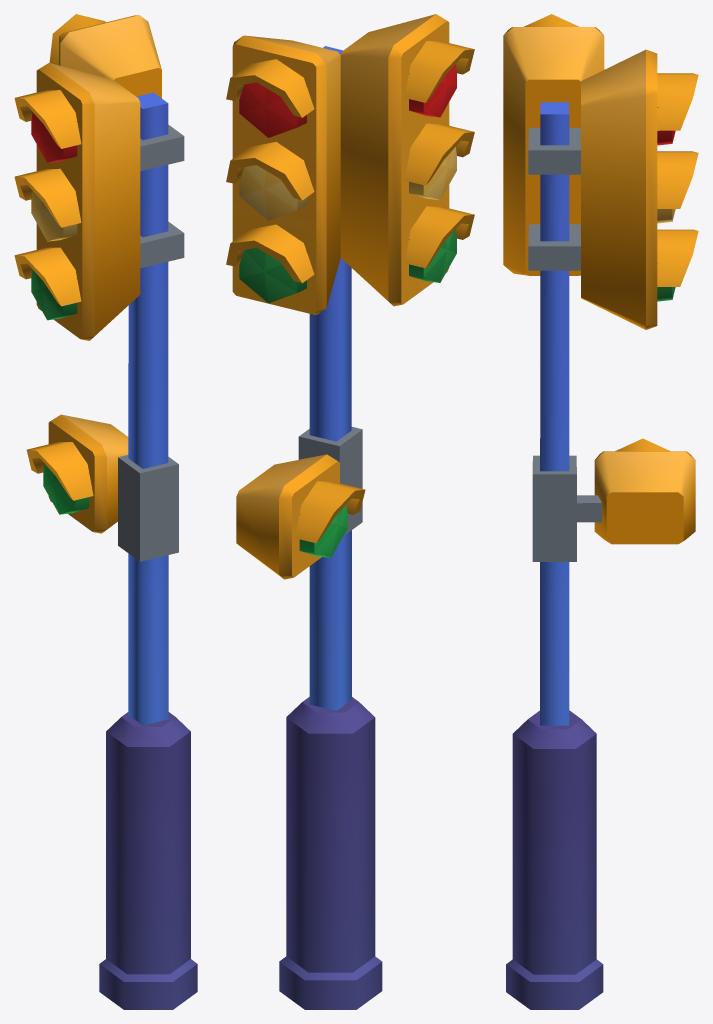
The model's file is Lights_3_B.fbx.
3 views of the same model, side by side, from view 1: azimuth 30°, elevation 25°; view 2: azimuth 150°, elevation 25°; view 3: azimuth 270°, elevation 25° (orthographic). The views are drawn at different scales.
Parts seen in each view (by area): view 1: Lights_3_B; view 2: Lights_3_B; view 3: Lights_3_B.
Part boxes in pixels (x1,y1,x2,y2): Lights_3_B: (14,14,197,1009); Lights_3_B: (226,14,474,1009); Lights_3_B: (503,14,698,1009).
Size of the model in its own units: 64.29 by 334 by 63.92.
